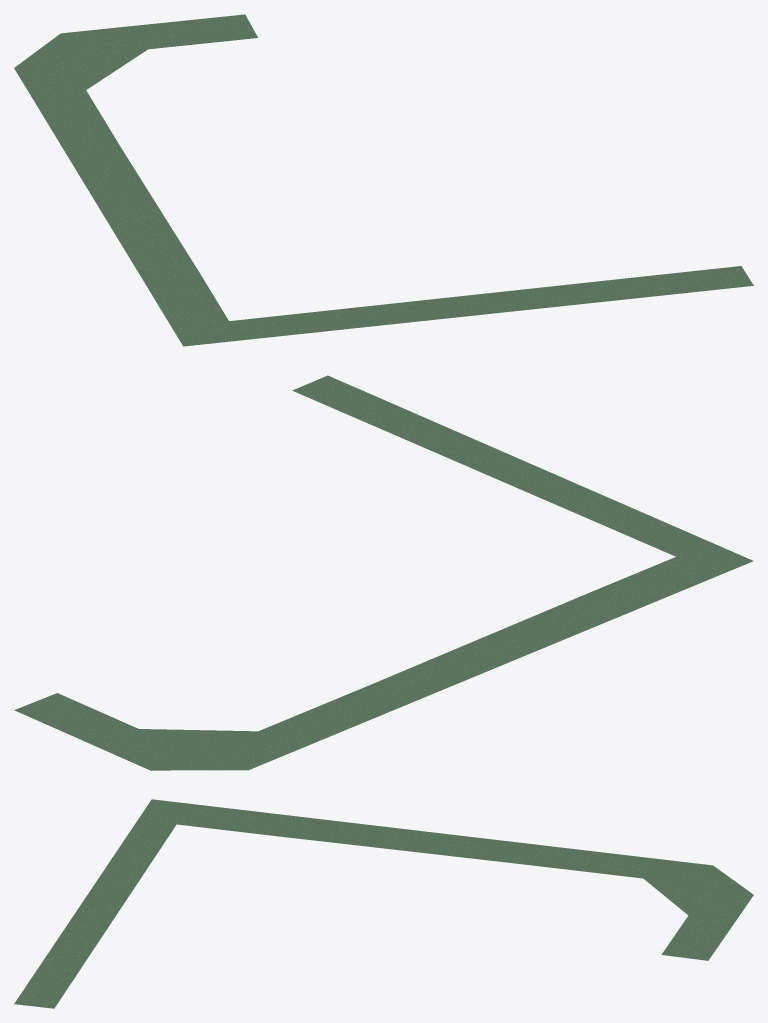
The model's file is kd_connection_world-inner_surface_0_17.glb.
3 renders of one model, top to bottom at view 1: azimuth 30°, elevation 25°; view 2: azimuth 150°, elevation 25°; view 3: azimuth 270°, elevation 25°, orthographic. The views are drawn at different scales.
Parts seen in each view (by area): view 1: kd_connection_world-inner_surface_0_17; view 2: kd_connection_world-inner_surface_0_17; view 3: kd_connection_world-inner_surface_0_17.
Part boxes in pixels (bbox=[...]): kd_connection_world-inner_surface_0_17: bbox=[14, 14, 753, 346]; kd_connection_world-inner_surface_0_17: bbox=[14, 375, 753, 770]; kd_connection_world-inner_surface_0_17: bbox=[14, 799, 753, 1008].
Size of the model in its own units: 26.61 by 5.72e-06 by 39.73.
1 material, 1 textured.
